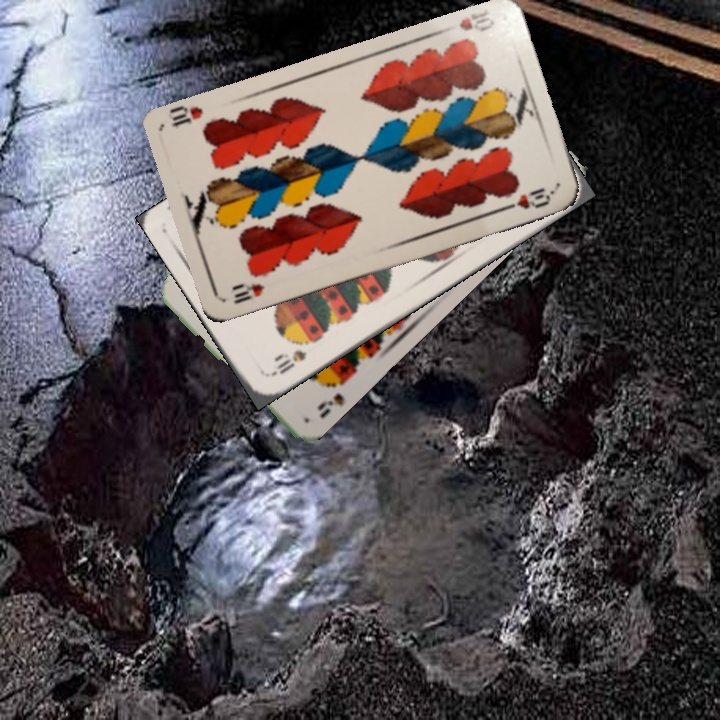H10: (455, 7, 497, 35), (227, 278, 267, 307)
S10: (264, 345, 310, 379)
S9: (313, 374, 351, 421)
